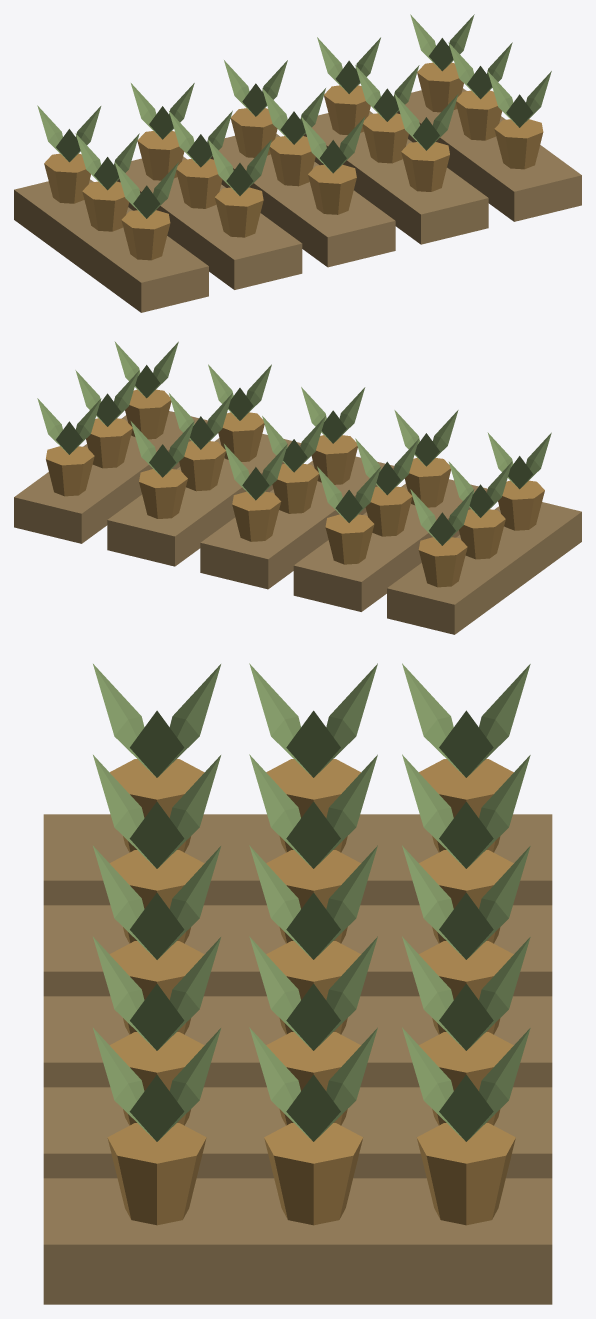
File: map-exclusive-v3__farm_13.glb
3 views of the same model, one above another, from view 1: azimuth 30°, elevation 25°; view 2: azimuth 150°, elevation 25°; view 3: azimuth 270°, elevation 25° (orthographic). The views are drawn at different scales.
Parts seen in each view (by area): view 1: farm_13; view 2: farm_13; view 3: farm_13.
Part boxes in pixels (x1,y1,x2,y2): farm_13: (14, 14, 581, 312); farm_13: (14, 341, 581, 634); farm_13: (43, 663, 552, 1304).
Bounding box in the file's own units: 2.6 × 0.645 × 1.3.
